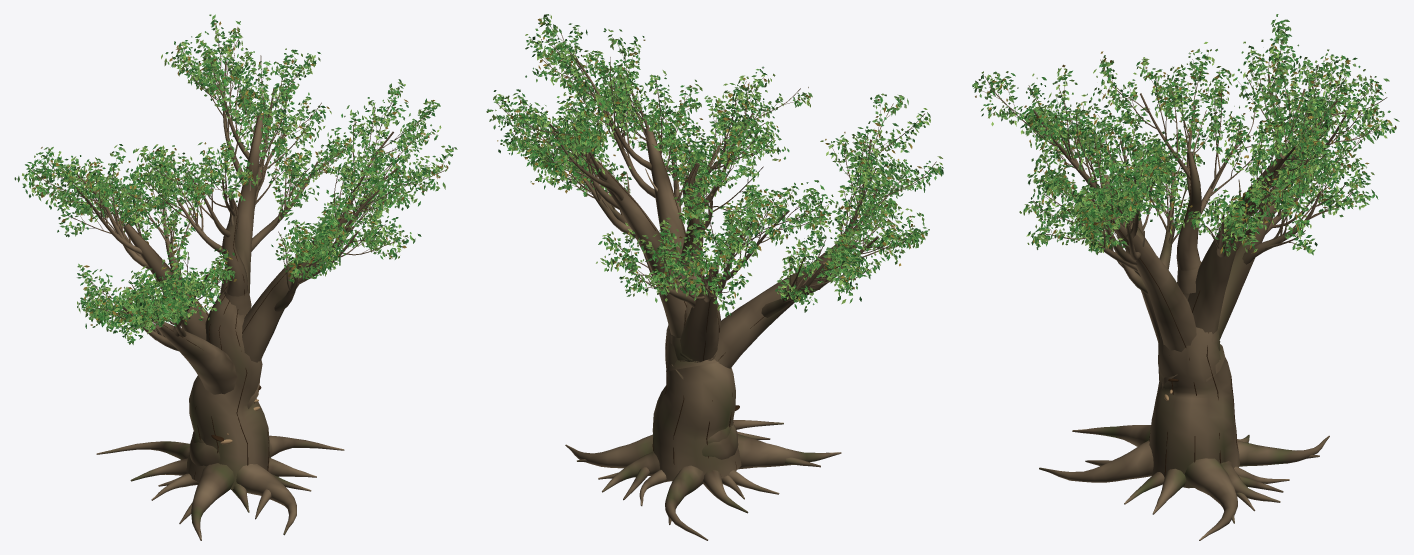
The model's file is ancient_tree_01.glb.
The picture shows the model from 3 angles, left to right: view 1: azimuth 30°, elevation 25°; view 2: azimuth 150°, elevation 25°; view 3: azimuth 270°, elevation 25°; orthographic projection. The views are drawn at different scales.
Parts seen in each view (by area): view 1: AncientLeaves, AncientTreeWood, FineBranches, DirectedBarkGrooves; view 2: AncientLeaves, AncientTreeWood, FineBranches, DirectedBarkGrooves; view 3: AncientLeaves, AncientTreeWood, FineBranches, DirectedBarkGrooves.
Part boxes in pixels (x1=…): AncientLeaves: x1=14, y1=14, x2=457, y2=344; AncientTreeWood: x1=28, y1=30, x2=447, y2=540; FineBranches: x1=35, y1=22, x2=447, y2=336; DirectedBarkGrooves: x1=128, y1=116, x2=343, y2=479; AncientLeaves: x1=486, y1=14, x2=943, y2=317; AncientTreeWood: x1=496, y1=33, x2=936, y2=540; FineBranches: x1=495, y1=21, x2=937, y2=302; DirectedBarkGrooves: x1=594, y1=131, x2=853, y2=469; AncientLeaves: x1=972, y1=14, x2=1399, y2=256; AncientTreeWood: x1=984, y1=30, x2=1387, y2=540; FineBranches: x1=977, y1=25, x2=1387, y2=249; DirectedBarkGrooves: x1=1113, y1=152, x2=1282, y2=487.
Size of the model in its own units: 20.24 by 21.29 by 18.51.
